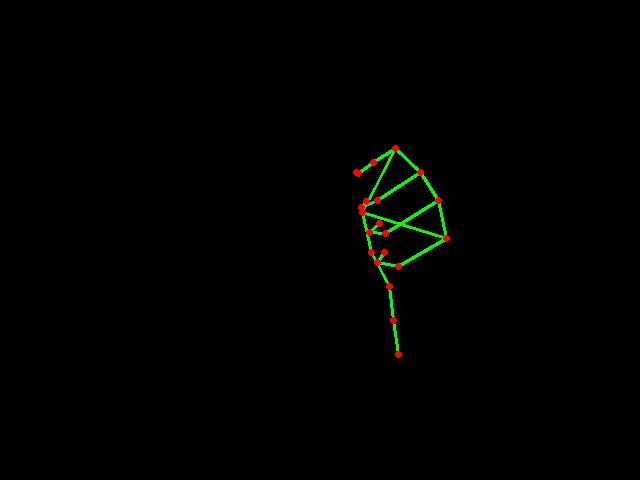slow: (344, 142, 460, 369)
